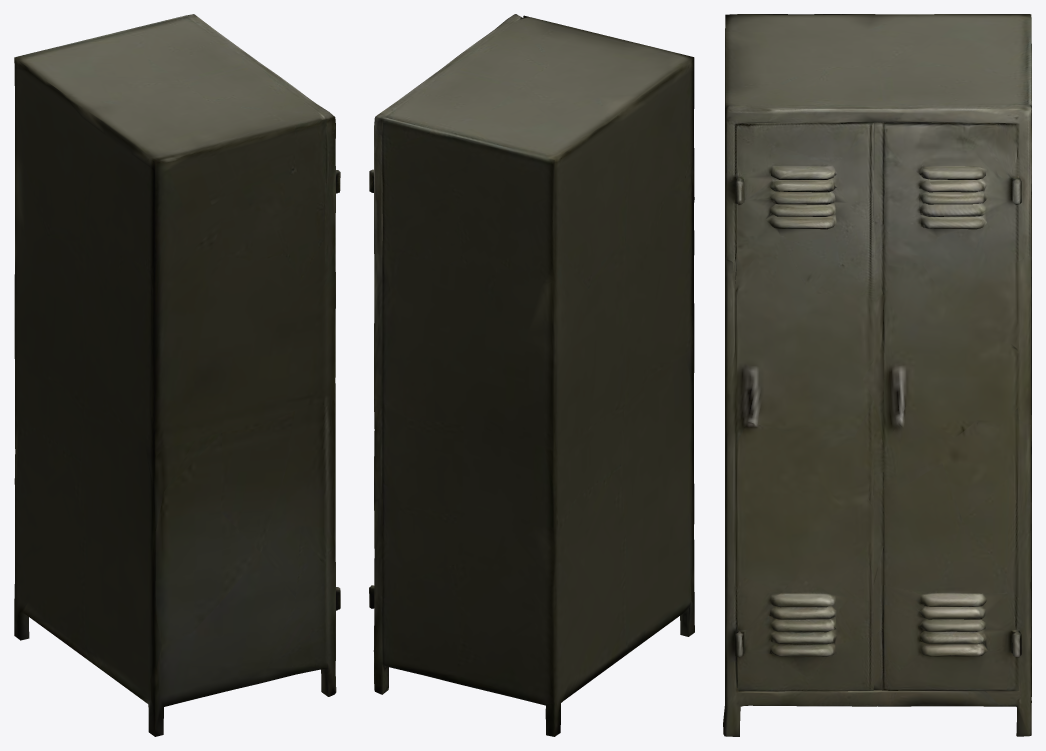
The model's file is gr_cabinet.glb.
3 renders of one model, left to right at view 1: azimuth 30°, elevation 25°; view 2: azimuth 150°, elevation 25°; view 3: azimuth 270°, elevation 25°, orthographic. The views are drawn at different scales.
Visible parts, largest first — view 1: tripo_node_ee9996d2-af60-4909-b44b-4a8adb9ef8ce; view 2: tripo_node_ee9996d2-af60-4909-b44b-4a8adb9ef8ce; view 3: tripo_node_ee9996d2-af60-4909-b44b-4a8adb9ef8ce.
Part boxes in pixels (box(x1,y1,x2,y2)): tripo_node_ee9996d2-af60-4909-b44b-4a8adb9ef8ce: box(14, 14, 340, 736); tripo_node_ee9996d2-af60-4909-b44b-4a8adb9ef8ce: box(369, 14, 694, 736); tripo_node_ee9996d2-af60-4909-b44b-4a8adb9ef8ce: box(723, 14, 1031, 736).
Size of the model in its own units: 0.3398 by 0.9797 by 0.4362.
1 material, 1 textured.
